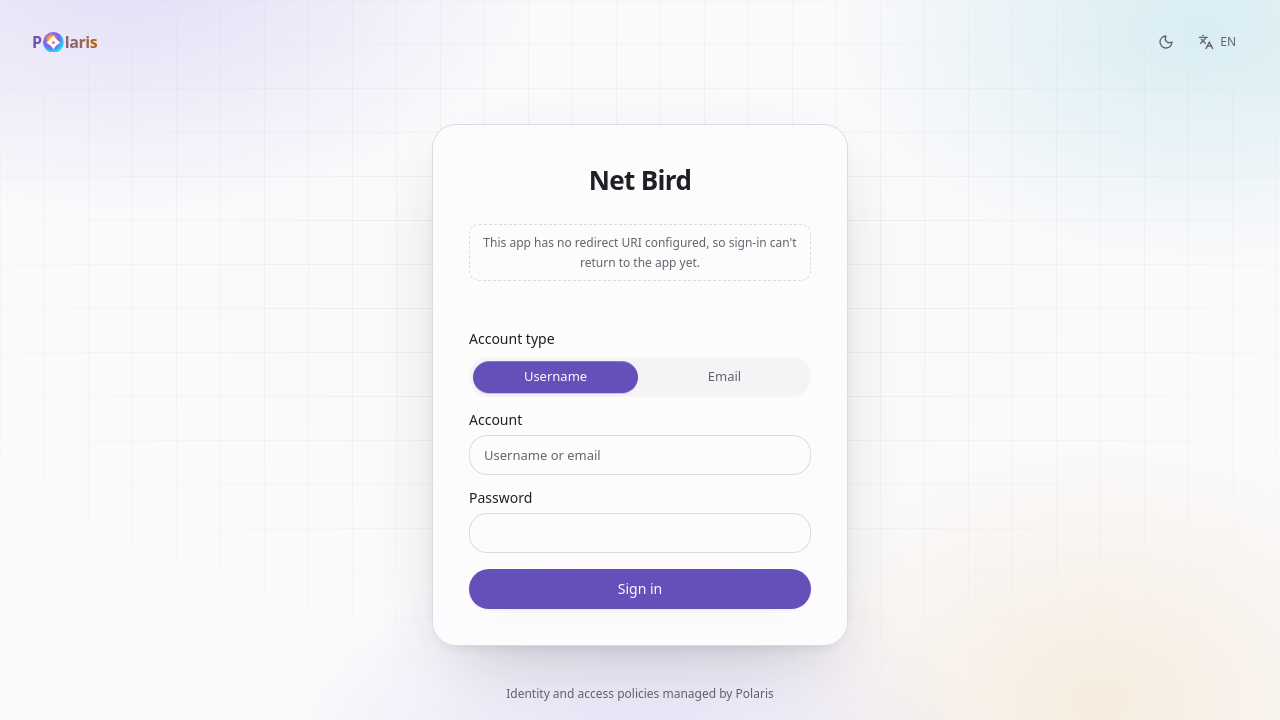
Scenario: 登录表单必填校验 › 空表单提交：标红账号与密码、显示内联提示，且不发登录请求
Expected: the heading "Net Bird" is shown, [589,162,691,198]
Click the button "Sign in" at x=640, y=589, box [469,569,811,609]
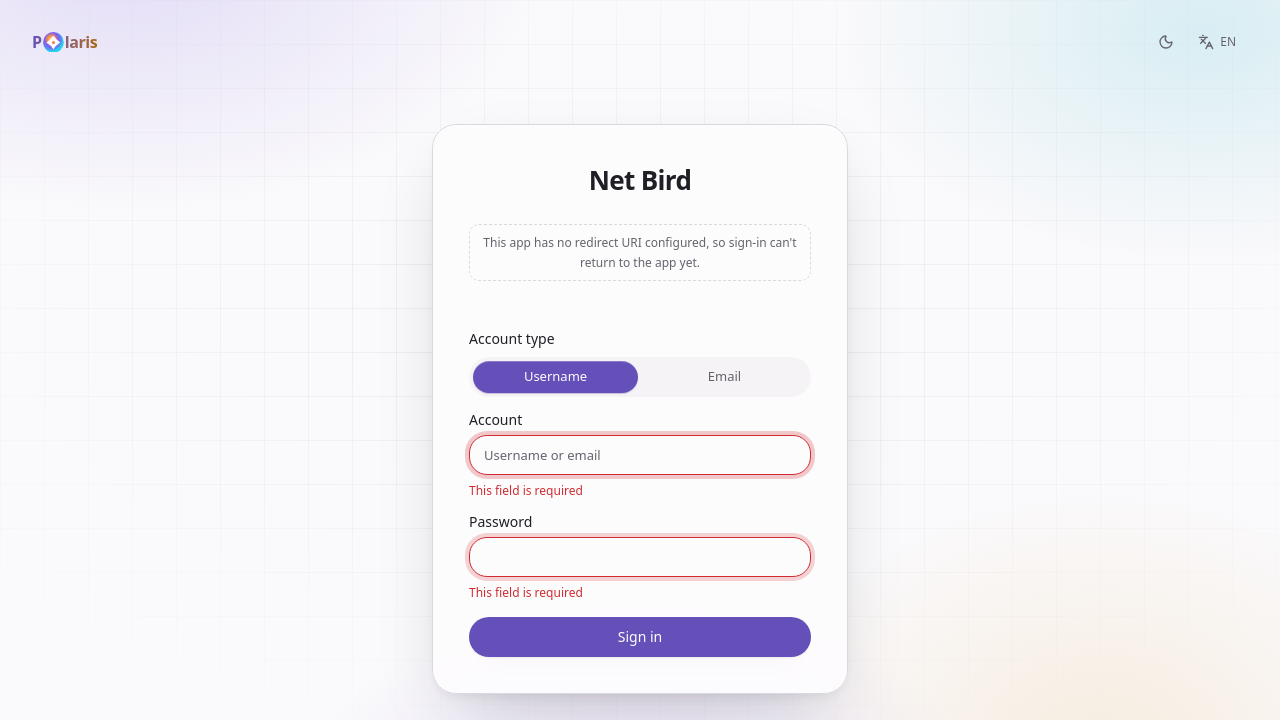
Now the text "This field is required" is shown 2 times, box [469,482,583,499]; [469,584,583,601]
